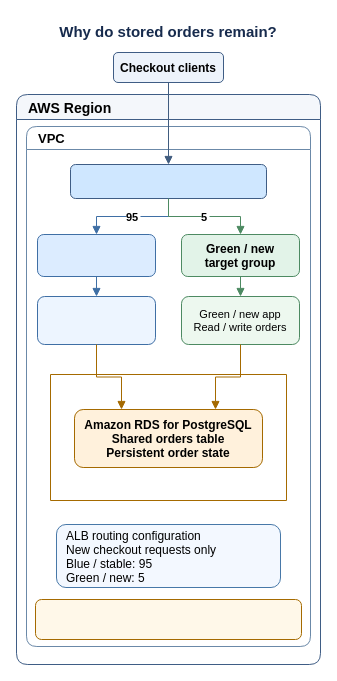
Image size: 337x681. Some labels were removed from this diagram. Here are the shapes that lost their labels. From the top down, the centre of each, then its label:
At (168,181): "Application Load Balancer".
At (96,255): "Blue / stable target group".
At (96,320): "Blue / stable app Read / write orders".
At (168,619): "Database state Committed orders remain Routing weights do not rewrite rows".
